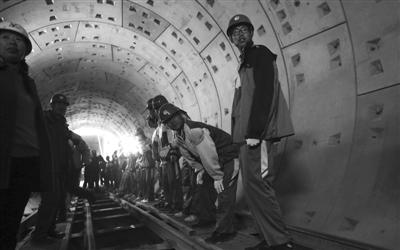helmet: (1, 19, 38, 53), (226, 15, 258, 39), (159, 105, 182, 120), (152, 95, 170, 112), (51, 94, 72, 108), (147, 100, 159, 115), (133, 129, 147, 141)
